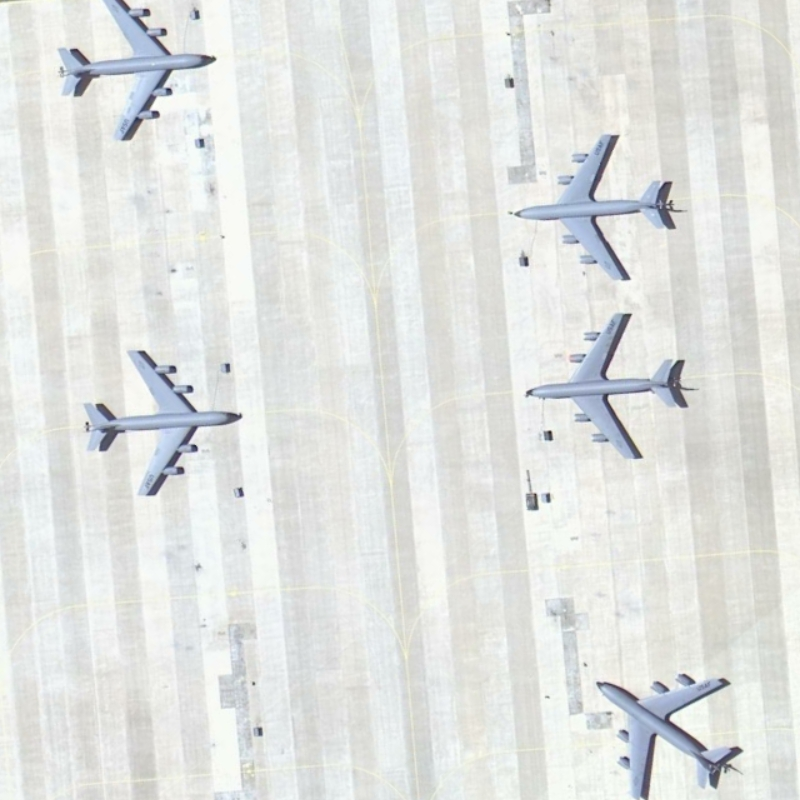A14: (510, 128, 683, 289), (73, 342, 240, 507), (521, 302, 687, 466), (50, 1, 215, 151), (588, 662, 750, 800)
